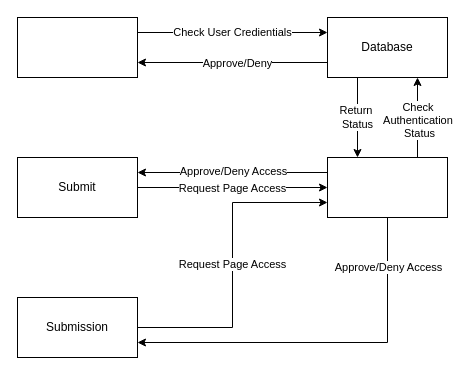
Some shapes in this 473 by 375 pixel diagram are drawn without their labels. The box of each missing label's shape, as (x1, y1, x2, y2) in pixels:
Login: (16, 16, 138, 78)
User Authentication: (326, 156, 448, 218)
